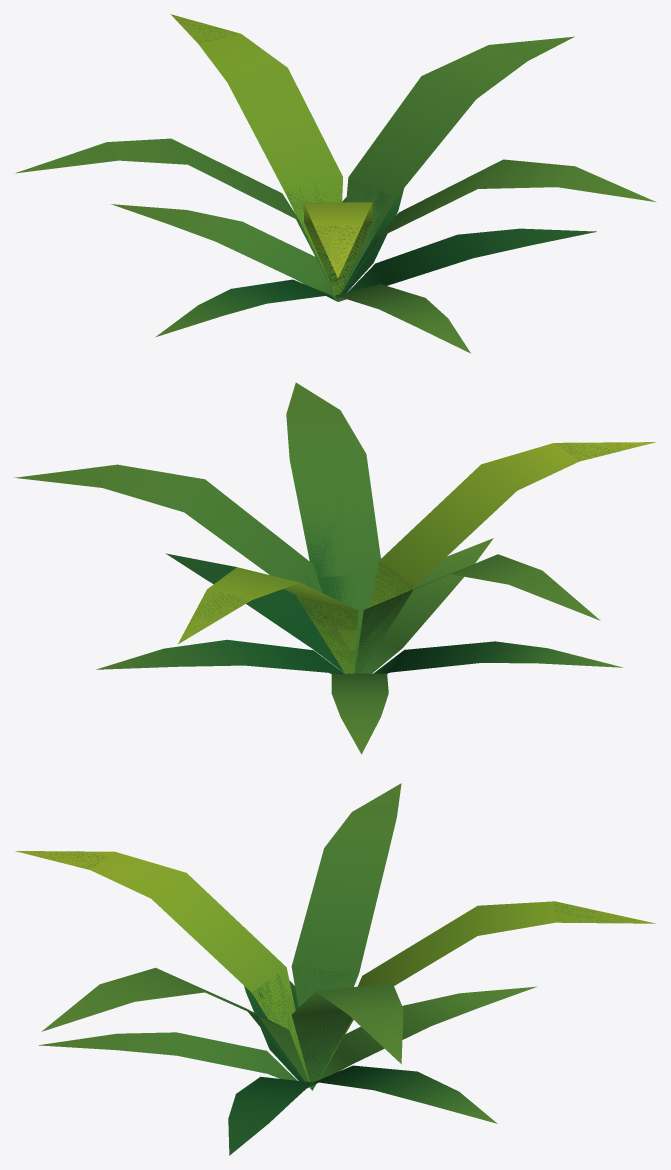
The model's file is plant_A_002.FBX.
The picture shows the model from 3 angles, top to bottom: view 1: azimuth 30°, elevation 25°; view 2: azimuth 150°, elevation 25°; view 3: azimuth 270°, elevation 25°; orthographic projection. The views are drawn at different scales.
Visible parts, largest first — view 1: plant_A_002; view 2: plant_A_002; view 3: plant_A_002.
Part boxes in pixels (x1,y1,x2,y2): plant_A_002: (15, 14, 656, 353); plant_A_002: (14, 382, 656, 754); plant_A_002: (15, 783, 655, 1155).
Bounding box in the file's own units: 30.19 × 8.98 × 29.16.
